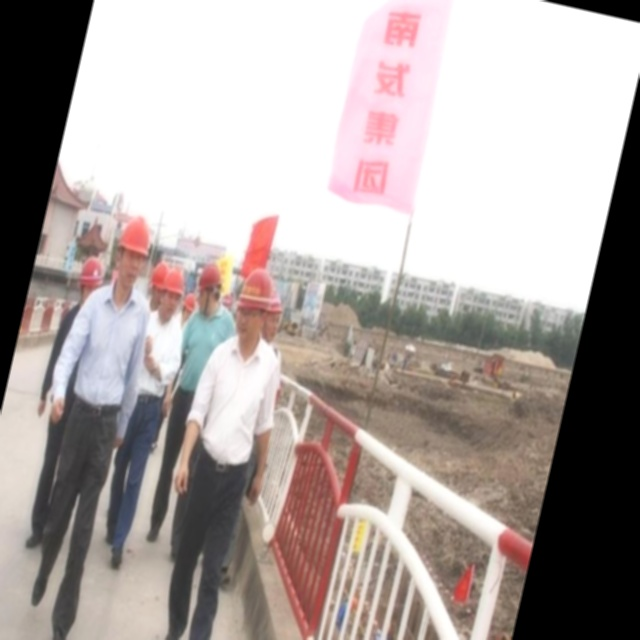Sin_Chaleco: (188, 326, 287, 471), (64, 276, 159, 413)
